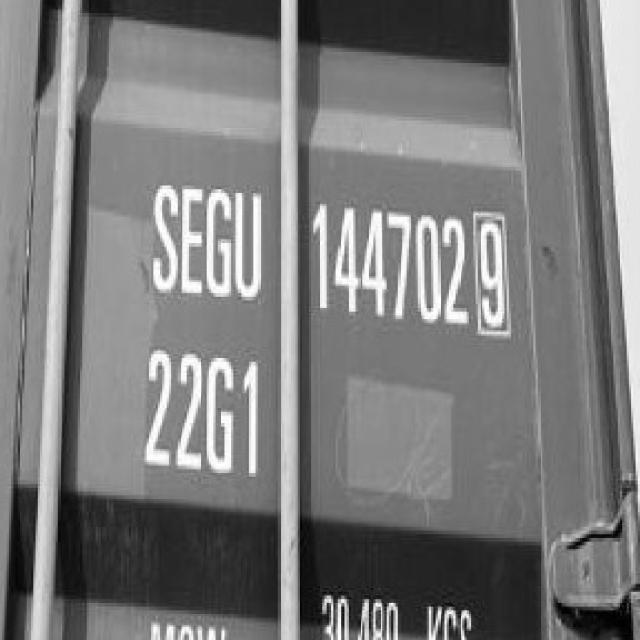dv: (468, 205, 525, 344)
owner: (137, 161, 275, 306)
serial: (301, 193, 469, 333)
size: (91, 337, 281, 482)
